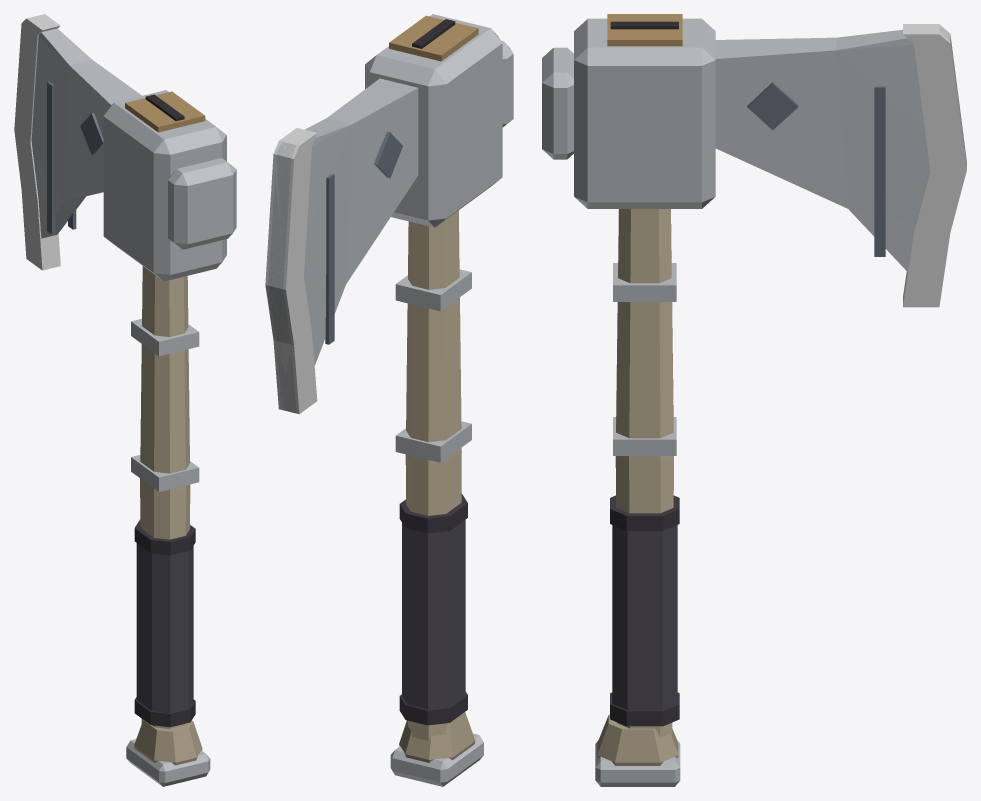
Rendered from SilverAxe.glb.
3 views of the same model, side by side, from view 1: azimuth 30°, elevation 25°; view 2: azimuth 150°, elevation 25°; view 3: azimuth 270°, elevation 25° (orthographic). The views are drawn at different scales.
Parts seen in each view (by area): view 1: Head, Handle; view 2: Head, Handle; view 3: Head, Handle.
Boxes of the visible parts, x1=… form: Head: x1=14, y1=14, x2=236, y2=281; Handle: x1=125, y1=91, x2=210, y2=786; Head: x1=265, y1=14, x2=513, y2=414; Handle: x1=389, y1=15, x2=483, y2=786; Head: x1=542, y1=18, x2=966, y2=307; Handle: x1=595, y1=14, x2=682, y2=786.
Size of the model in its own units: 0.4452 by 3.85 by 1.97.
